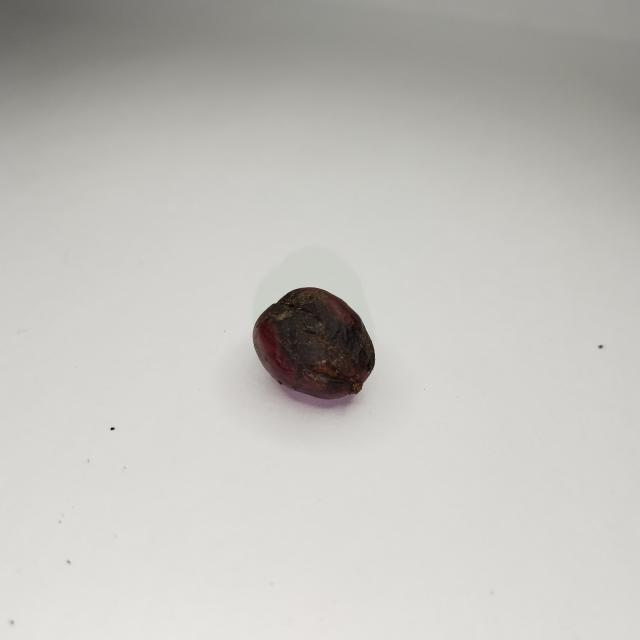Danado: (252, 288, 375, 406)
